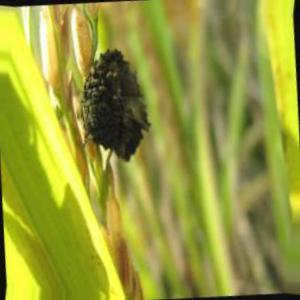Leaf_Scald: (92, 54, 147, 156)
